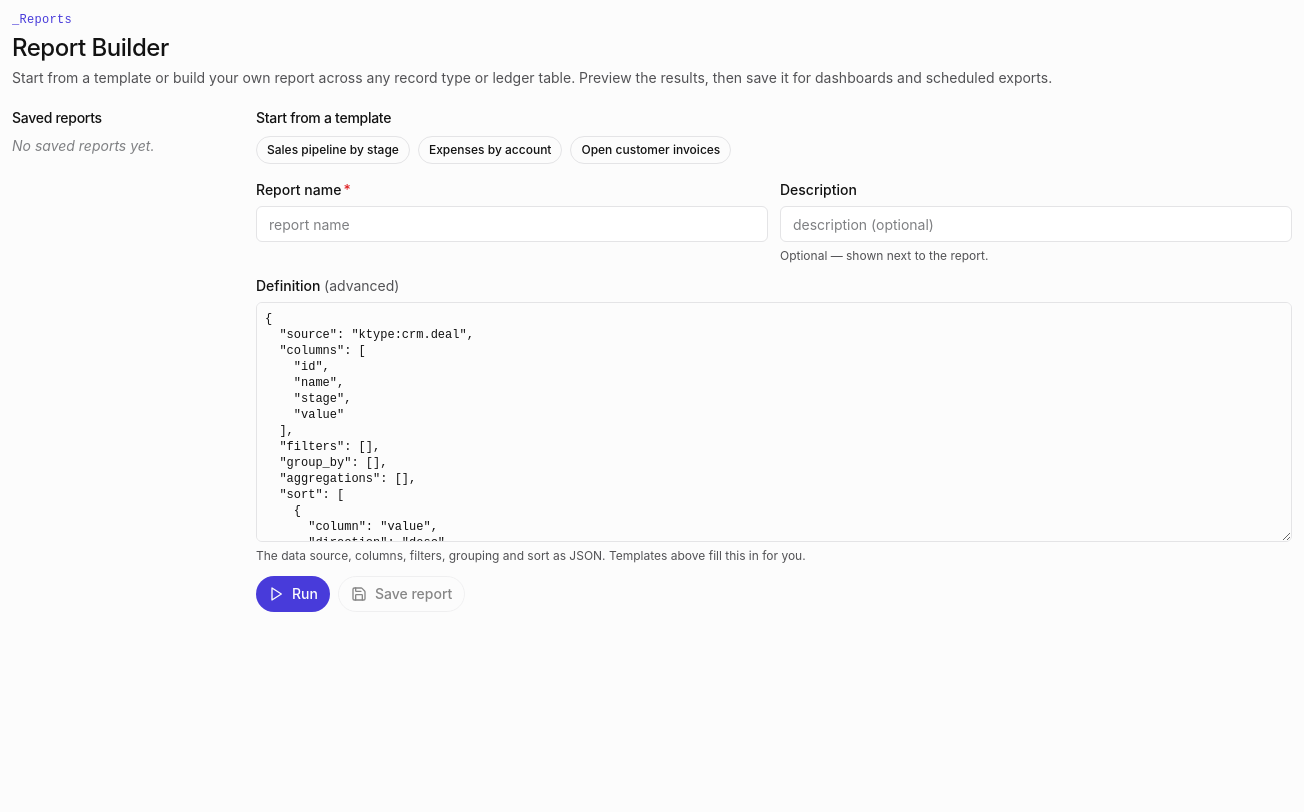
Test: ReportBuilderPage › surfaces a server error from the runner
Step 1. Click the button "Run" → click(293, 594), box [256,576,330,612]
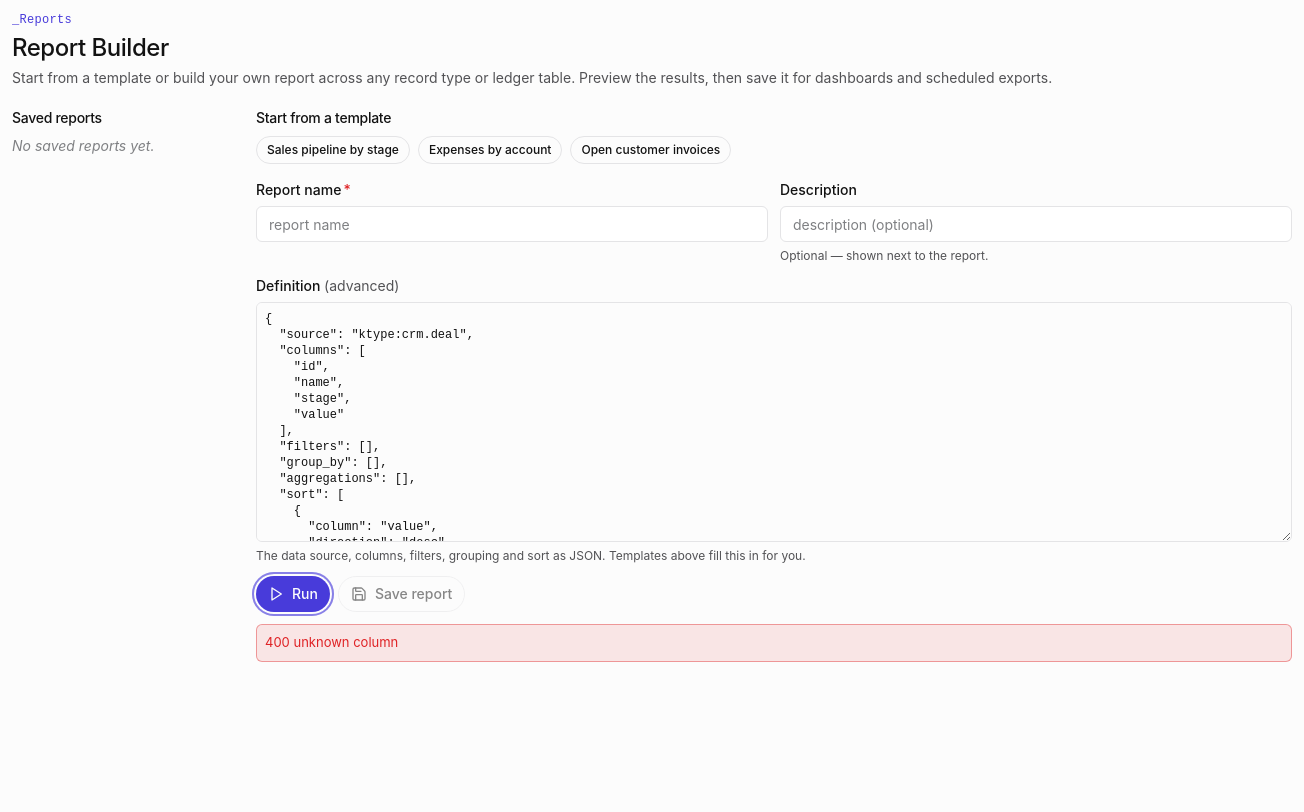
Expected: the text "400 unknown column" is shown, [256,624,1292,662]
